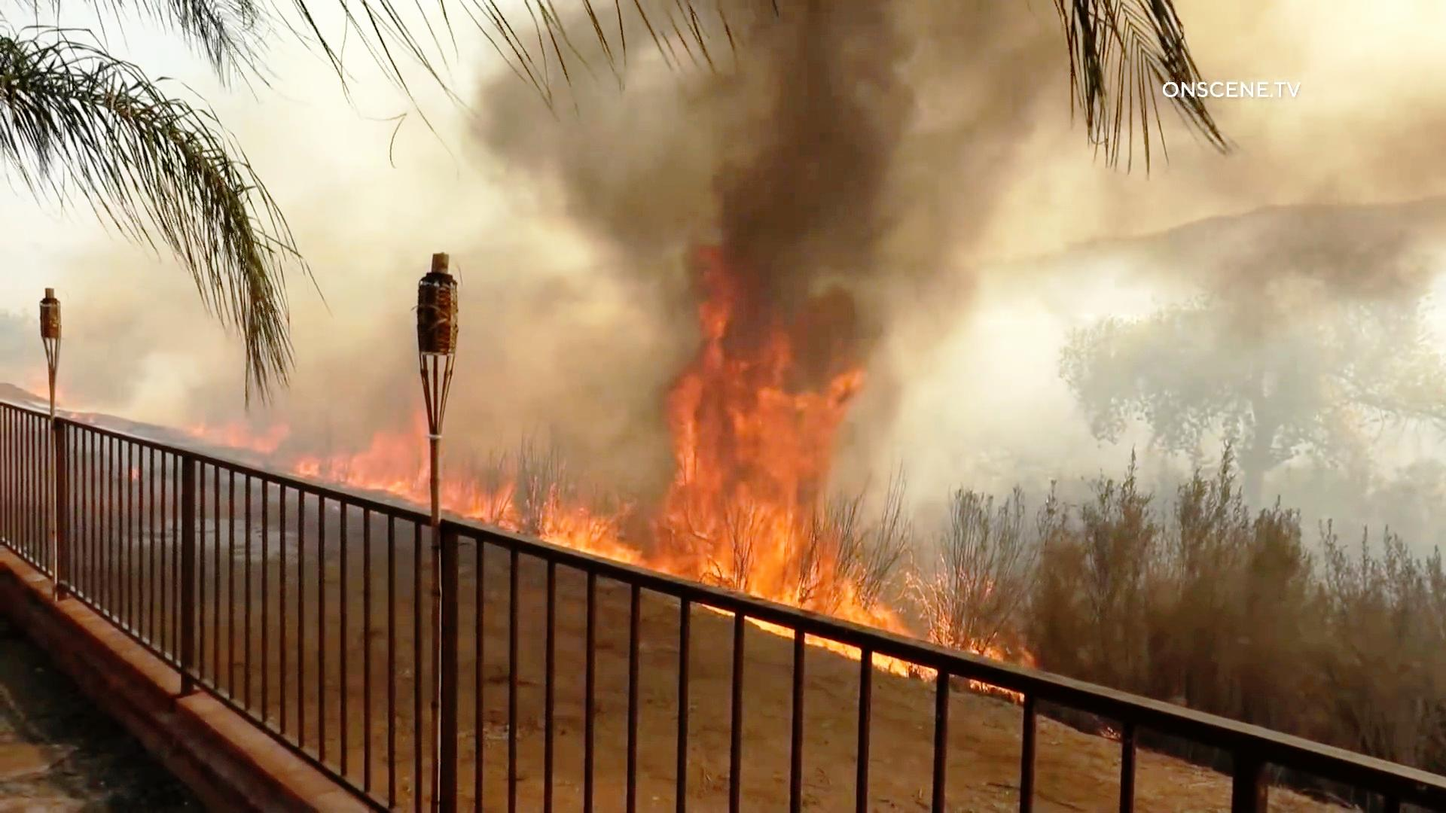fire: (682, 260, 853, 596), (334, 414, 424, 497)
smoke: (727, 14, 1043, 244), (273, 140, 415, 426), (473, 269, 670, 464), (473, 100, 719, 255), (1239, 113, 1433, 291)
